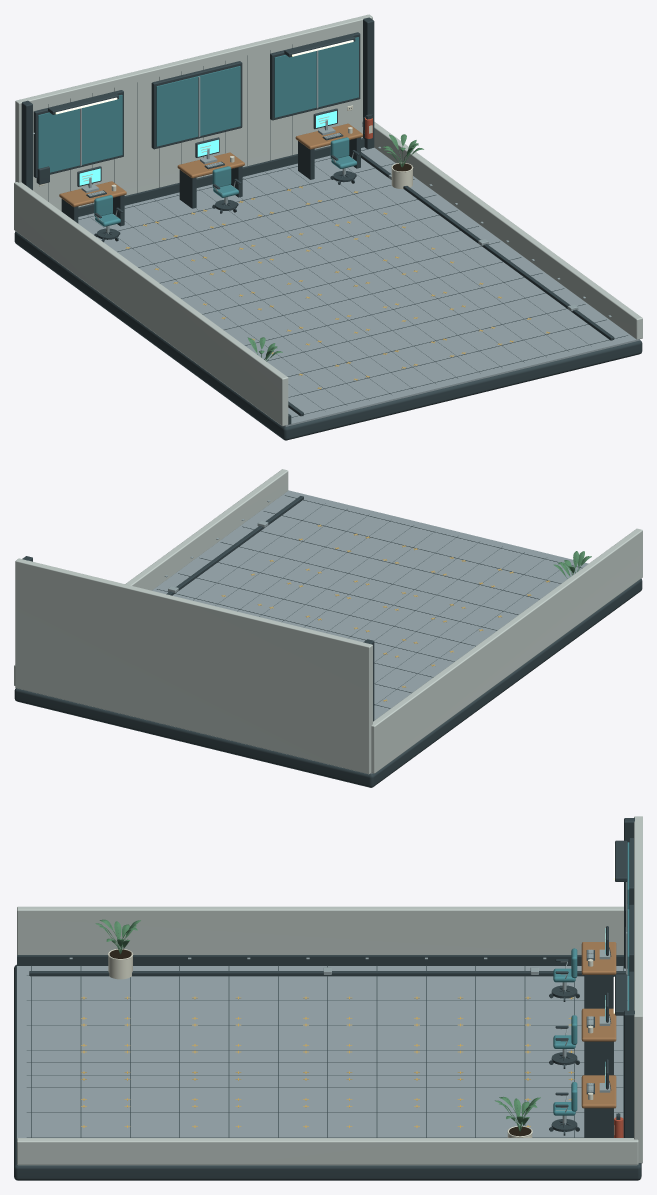
File: technopark.glb
The picture shows the model from 3 angles, top to bottom: view 1: azimuth 30°, elevation 25°; view 2: azimuth 150°, elevation 25°; view 3: azimuth 270°, elevation 25°; orthographic projection. The views are drawn at different scales.
Parts seen in each view (by area): view 1: SM_technopark_01_mineral_floor, SM_technopark_02_painted_plaster, SM_technopark_03_charcoal_steel, SM_technopark_08_glass, SM_technopark_05_warm_oak, SM_technopark_04_brushed_alloy, SM_technopark_11_safety_paint, SM_technopark_Foliage, SM_technopark_12_screen, SM_technopark_06_ivory; view 2: SM_technopark_02_painted_plaster, SM_technopark_01_mineral_floor, SM_technopark_03_charcoal_steel, SM_technopark_11_safety_paint; view 3: SM_technopark_01_mineral_floor, SM_technopark_02_painted_plaster, SM_technopark_03_charcoal_steel, SM_technopark_05_warm_oak, SM_technopark_08_glass, SM_technopark_Foliage, SM_technopark_04_brushed_alloy, SM_technopark_11_safety_paint, SM_technopark_06_ivory.
Part boxes in pixels (x1,y1,x2,y2): SM_technopark_01_mineral_floor: [78, 147, 639, 426]; SM_technopark_02_painted_plaster: [14, 14, 642, 426]; SM_technopark_03_charcoal_steel: [14, 17, 642, 440]; SM_technopark_08_glass: [38, 37, 358, 226]; SM_technopark_05_warm_oak: [59, 123, 362, 207]; SM_technopark_04_brushed_alloy: [33, 50, 611, 317]; SM_technopark_11_safety_paint: [125, 186, 549, 389]; SM_technopark_Foliage: [247, 134, 423, 361]; SM_technopark_12_screen: [79, 111, 336, 185]; SM_technopark_06_ivory: [39, 105, 412, 221]; SM_technopark_02_painted_plaster: [14, 469, 642, 774]; SM_technopark_01_mineral_floor: [152, 490, 588, 774]; SM_technopark_03_charcoal_steel: [14, 495, 642, 787]; SM_technopark_11_safety_paint: [221, 524, 549, 701]; SM_technopark_01_mineral_floor: [17, 966, 638, 1164]; SM_technopark_02_painted_plaster: [17, 816, 642, 1165]; SM_technopark_03_charcoal_steel: [14, 818, 641, 1180]; SM_technopark_05_warm_oak: [581, 942, 616, 1108]; SM_technopark_08_glass: [553, 842, 629, 1115]; SM_technopark_Foliage: [95, 919, 540, 1137]; SM_technopark_04_brushed_alloy: [69, 882, 627, 1124]; SM_technopark_11_safety_paint: [81, 996, 574, 1127]; SM_technopark_06_ivory: [108, 933, 614, 1137].
Size of the model in its own units: 9.78 by 3.68 by 12.75.
